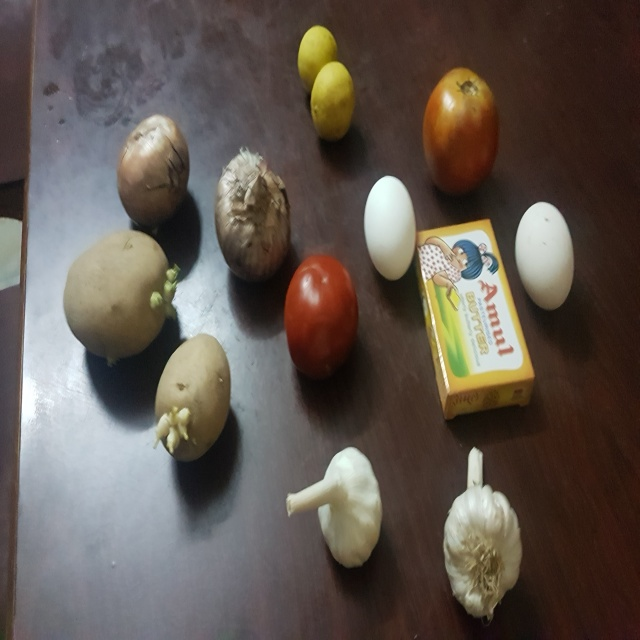butter: (409, 217, 540, 421)
eggs: (514, 197, 576, 311), (363, 171, 418, 283)
garlic: (441, 443, 521, 623), (283, 444, 385, 569)
lemon: (309, 58, 355, 143), (298, 23, 343, 92)
onion: (207, 148, 293, 280), (113, 115, 194, 229)
potato: (63, 234, 183, 357), (154, 335, 240, 466)
tomato: (282, 257, 362, 388), (421, 65, 498, 197)
